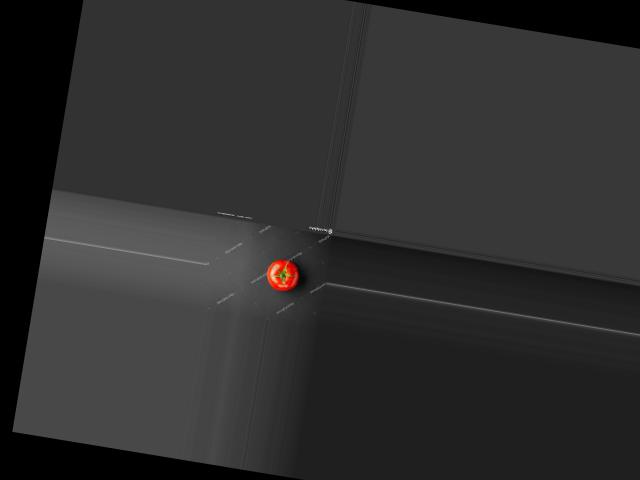tomato: (263, 256, 300, 293)
